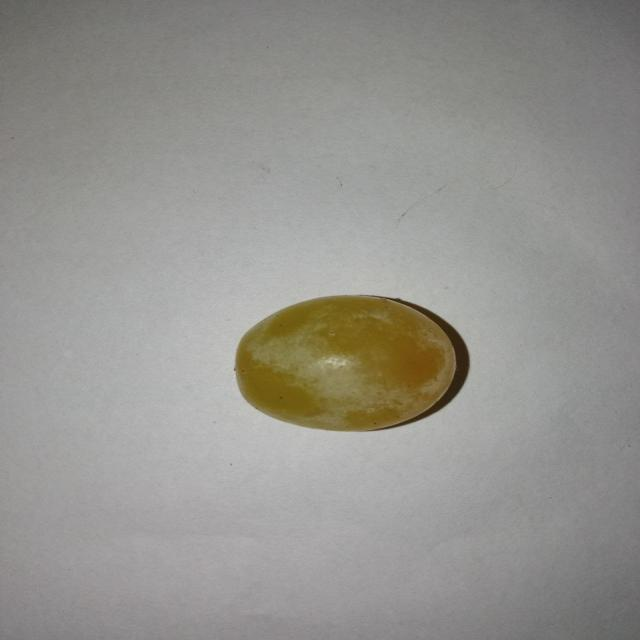fresh_grape: (231, 293, 460, 430)
